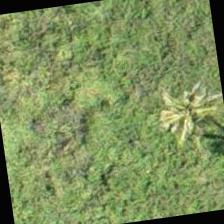Kelapa_Sawit: (136, 65, 223, 167)
